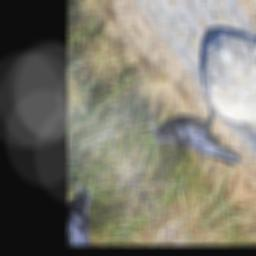Crow: (143, 79, 254, 204)
